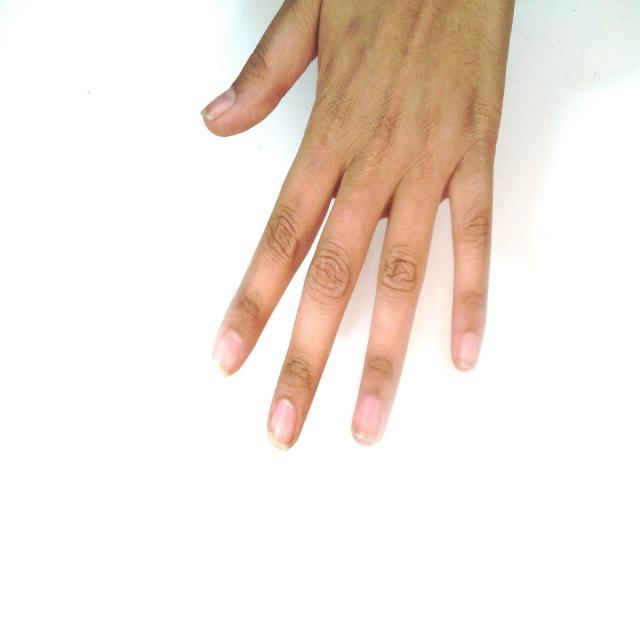Fingernail: (353, 395, 381, 444), (270, 400, 296, 449), (217, 333, 242, 374), (203, 91, 234, 120), (459, 333, 478, 369)
